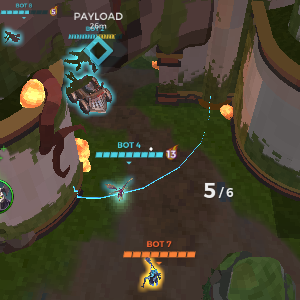model: (138, 260, 168, 294)
